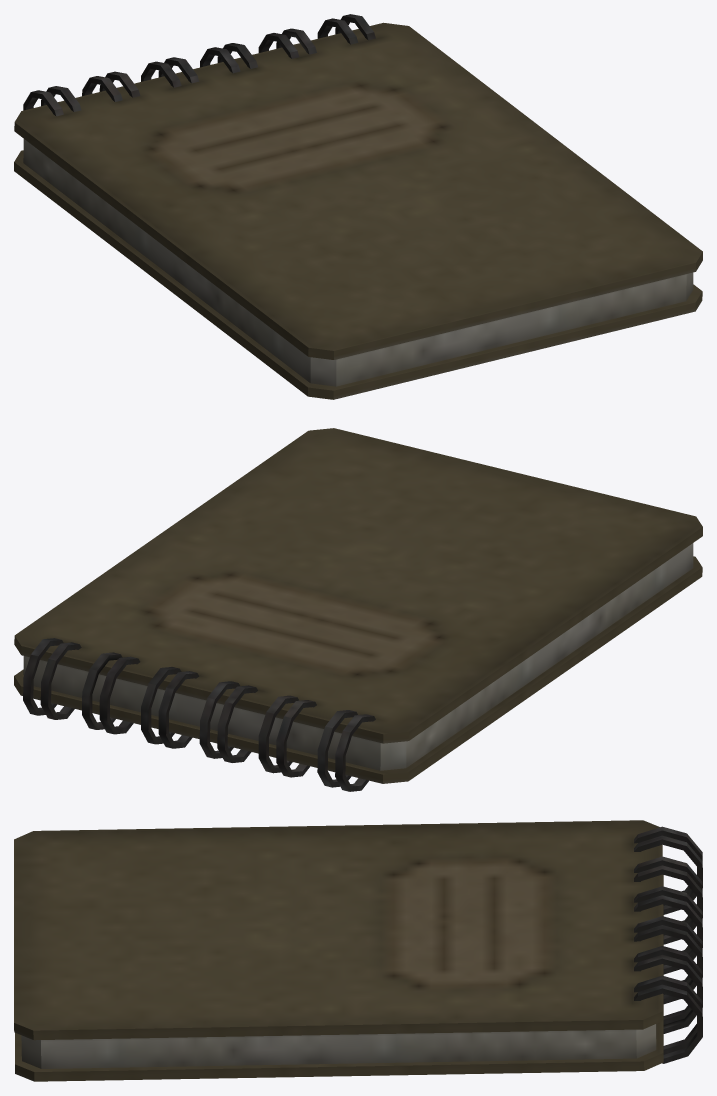
The model's file is notebook_1.obj.
3 views of the same model, one above another, from view 1: azimuth 30°, elevation 25°; view 2: azimuth 150°, elevation 25°; view 3: azimuth 270°, elevation 25° (orthographic). The views are drawn at different scales.
Parts seen in each view (by area): view 1: notebook_1; view 2: notebook_1; view 3: notebook_1.
Boxes of the visible parts, x1=… form: notebook_1: x1=14, y1=14, x2=702, y2=399; notebook_1: x1=14, y1=428, x2=702, y2=791; notebook_1: x1=14, y1=820, x2=702, y2=1081.
Bounding box in the file's own units: 4.72 × 0.8323 × 6.88.
Materials: 2 (2 with a texture image).
